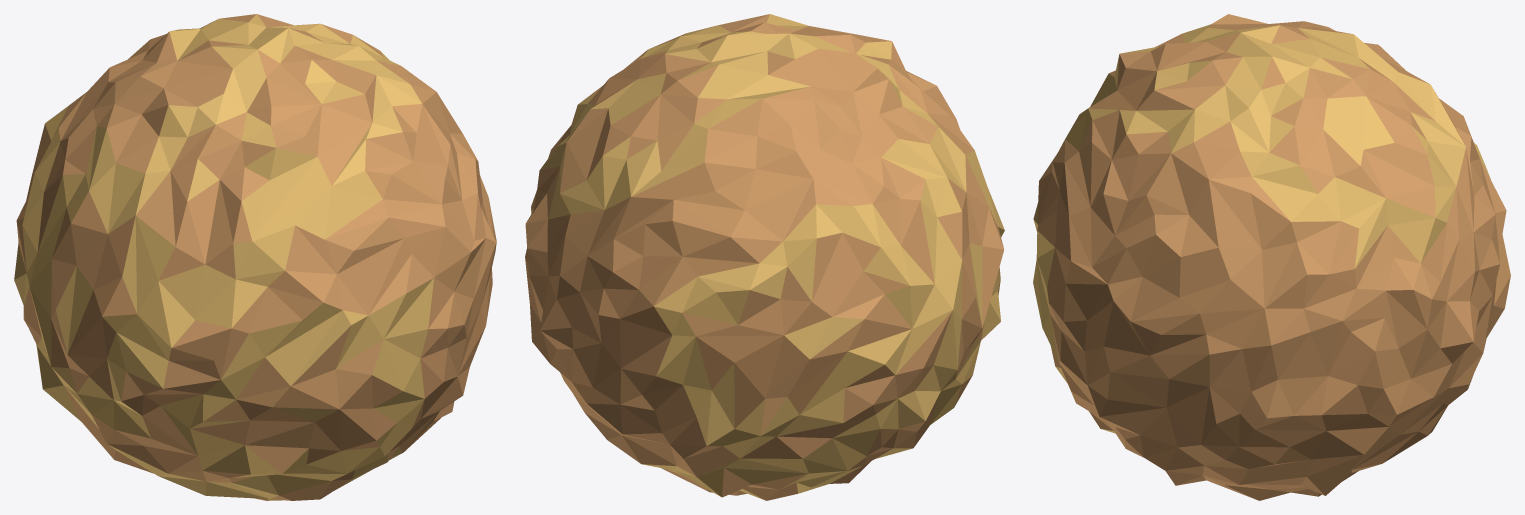
The model's file is Venus.glb.
3 views of the same model, side by side, from view 1: azimuth 30°, elevation 25°; view 2: azimuth 150°, elevation 25°; view 3: azimuth 270°, elevation 25° (orthographic).
Visible parts, largest first — view 1: Venus.001; view 2: Venus.001; view 3: Venus.001.
Part boxes in pixels (left/top/right/bottom): Venus.001: left=14, top=14, right=496, bottom=500; Venus.001: left=525, top=14, right=1004, bottom=500; Venus.001: left=1033, top=14, right=1510, bottom=500.
Bounding box in the file's own units: 100 × 100 × 100.
Materials: 1 (1 with a texture image).
